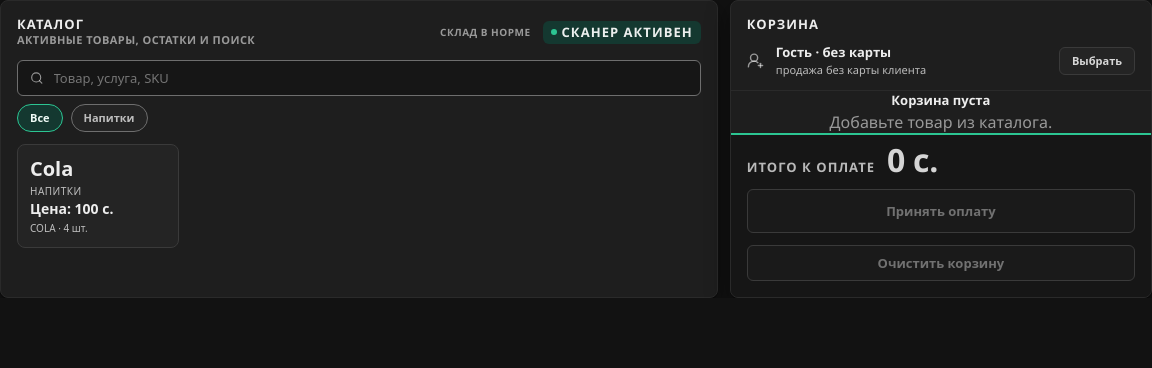
Scenario: BackendPosWorkspace › labels backend product price and selected client balance
Expected: the text "Цена:" is shown, [30,202,71,217]
Click the button "Выбрать" at (1097, 61), box [1059,47,1135,75]
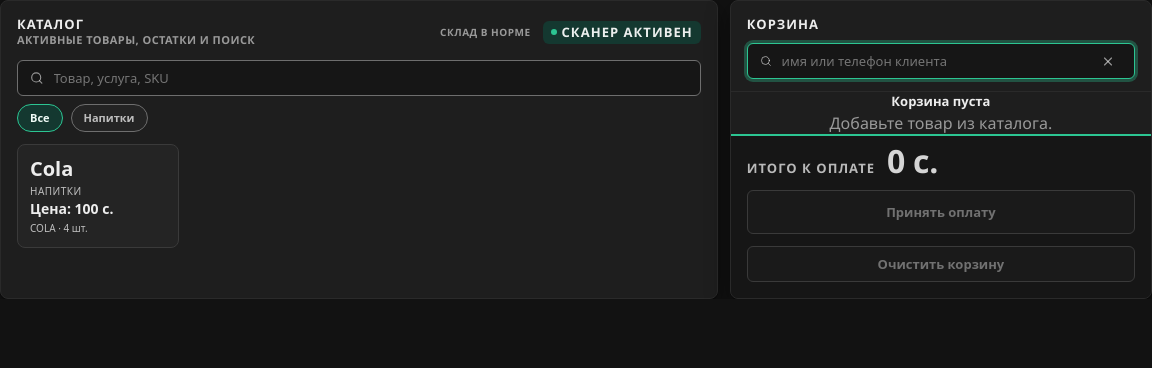
Type "Амир" into the field labelled "клиент" at (933, 61), box [780,51,1086,71]
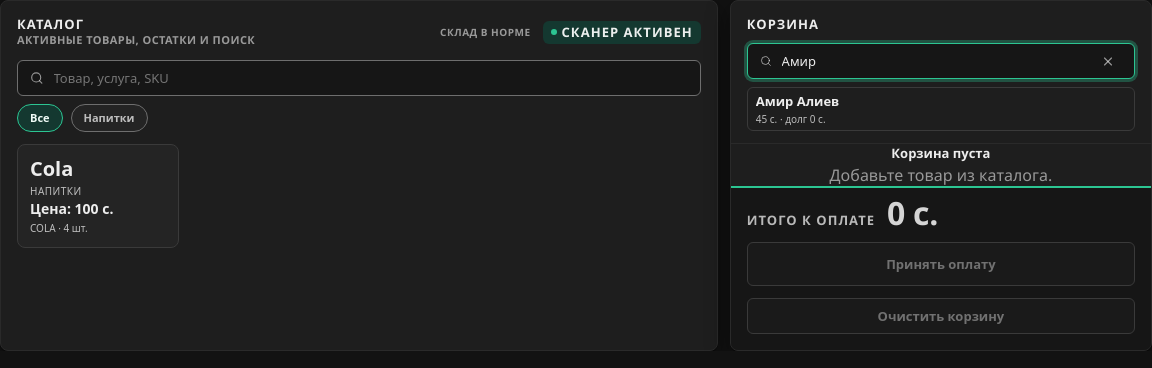
Click the button "Амир Алиев 45 с. · долг 0 с." at (798, 101), box [747,87,1135,131]
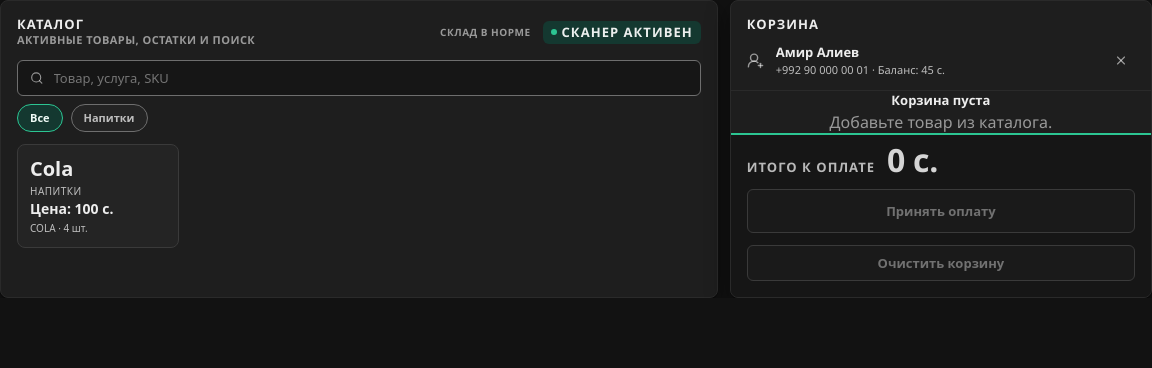
Expected: the text "Баланс:" is shown, [878,63,918,78]
